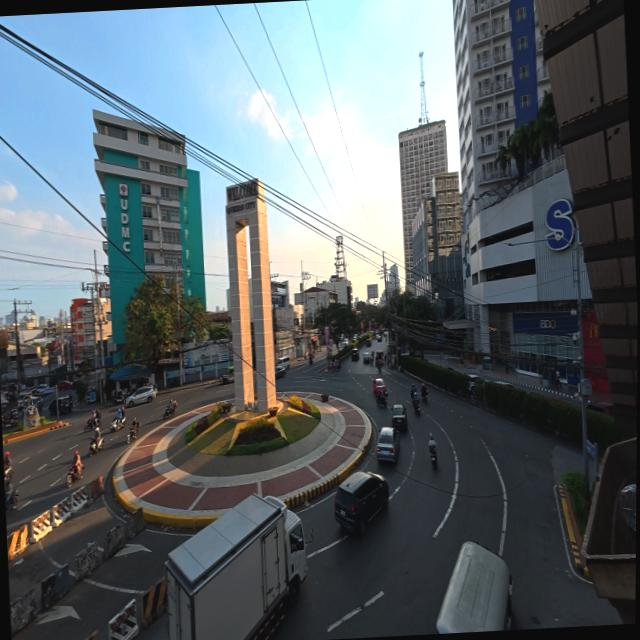Jeepneys: (436, 542, 512, 633)
car: (334, 472, 388, 535), (377, 427, 400, 463), (127, 386, 155, 406), (392, 404, 408, 429), (588, 401, 613, 416), (468, 374, 483, 393), (59, 396, 73, 414), (373, 378, 386, 396), (494, 380, 516, 389), (275, 366, 286, 378), (352, 349, 359, 360), (363, 353, 369, 364), (366, 338, 372, 348), (353, 334, 359, 343), (343, 338, 349, 346), (377, 335, 382, 342)
motorcycle: (66, 464, 83, 487), (5, 489, 18, 512), (89, 437, 103, 457), (127, 423, 140, 444), (110, 416, 125, 433), (84, 418, 99, 431), (163, 406, 176, 419), (114, 391, 126, 405), (4, 466, 13, 484), (431, 447, 438, 469), (412, 398, 421, 414), (376, 394, 387, 407), (168, 379, 179, 388), (422, 391, 428, 402), (411, 388, 416, 401), (336, 360, 341, 371), (377, 364, 381, 373), (309, 355, 312, 364)
trucks: (166, 494, 307, 639)
vans: (276, 357, 289, 369)
